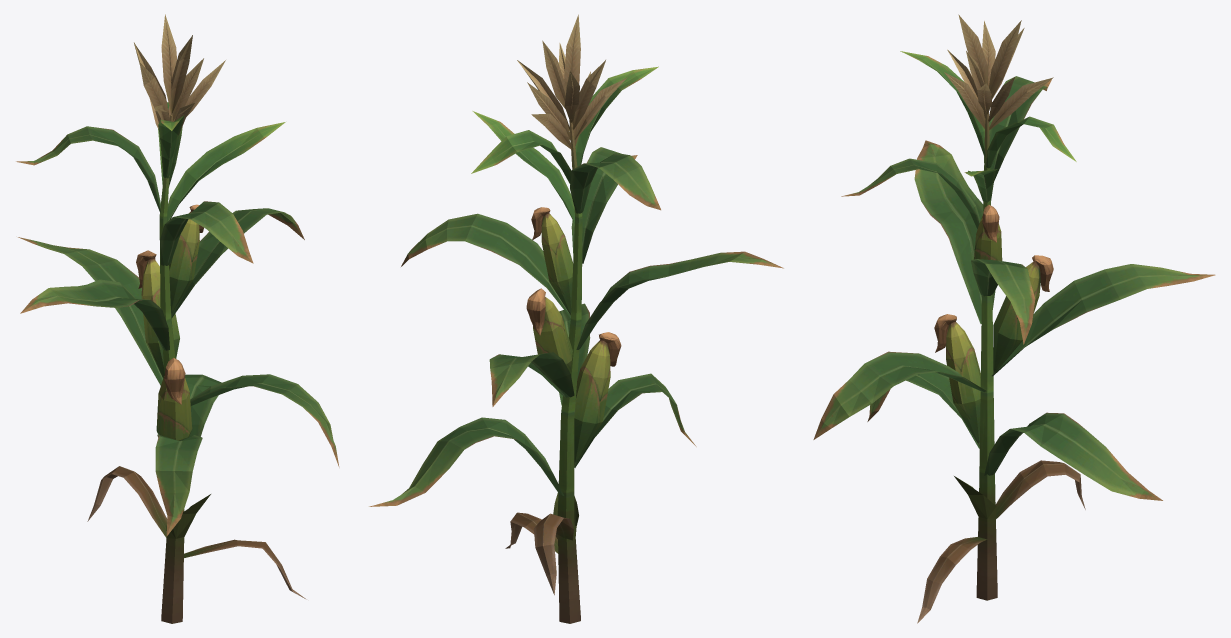
The model's file is P_Herb_00143.obj.
The picture shows the model from 3 angles, left to right: view 1: azimuth 30°, elevation 25°; view 2: azimuth 150°, elevation 25°; view 3: azimuth 270°, elevation 25°; orthographic projection.
Size of the model in its own units: 1.43 by 2.42 by 1.52.
1 material, 1 textured.
